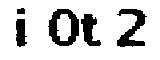0: (44, 4, 81, 50)
2: (113, 6, 148, 49)
i: (14, 6, 32, 48)
t: (80, 10, 103, 49)
